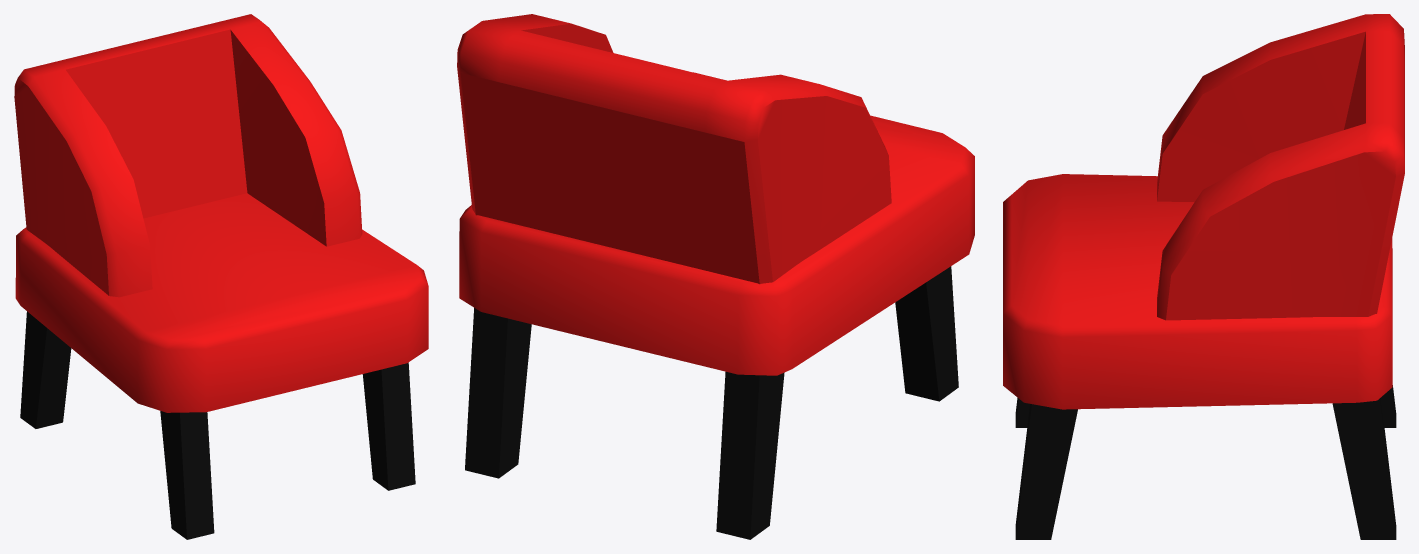
File: ghe Vip.FBX
3 renders of one model, left to right at view 1: azimuth 30°, elevation 25°; view 2: azimuth 150°, elevation 25°; view 3: azimuth 270°, elevation 25°, orthographic. The views are drawn at different scales.
Visible parts, largest first — view 1: Box1143; view 2: Box1143; view 3: Box1143.
Part boxes in pixels (x1,y1,x2,y2): Box1143: (14, 14, 428, 539); Box1143: (457, 14, 974, 539); Box1143: (1003, 14, 1404, 539).
Bounding box in the file's own units: 1.27 × 1.48 × 1.35.
